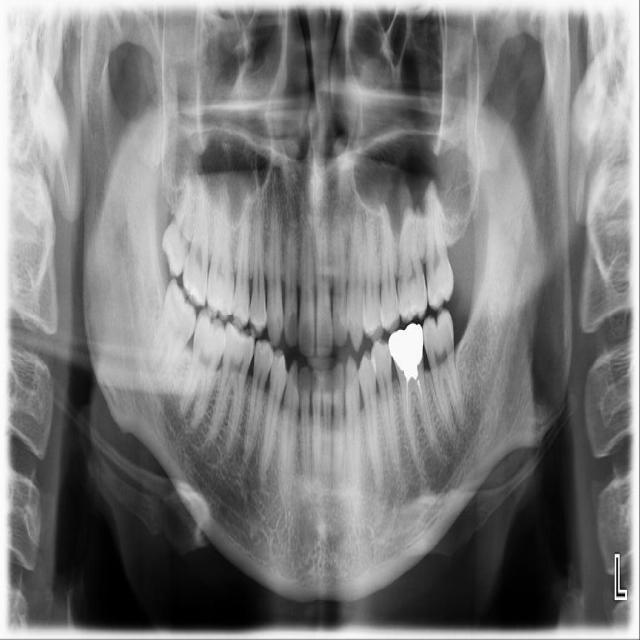3M ESPE Implant: (155, 165, 205, 280)
52: (381, 319, 433, 369)
73: (395, 355, 435, 453), (582, 542, 583, 568)
BioHorizons Implant: (417, 179, 457, 313)
Blue Sky Bio Implant: (419, 306, 466, 437)
Caries: (181, 178, 214, 308)
Implant: (175, 305, 232, 428)
Keystone Dental Implant: (142, 277, 207, 390)
